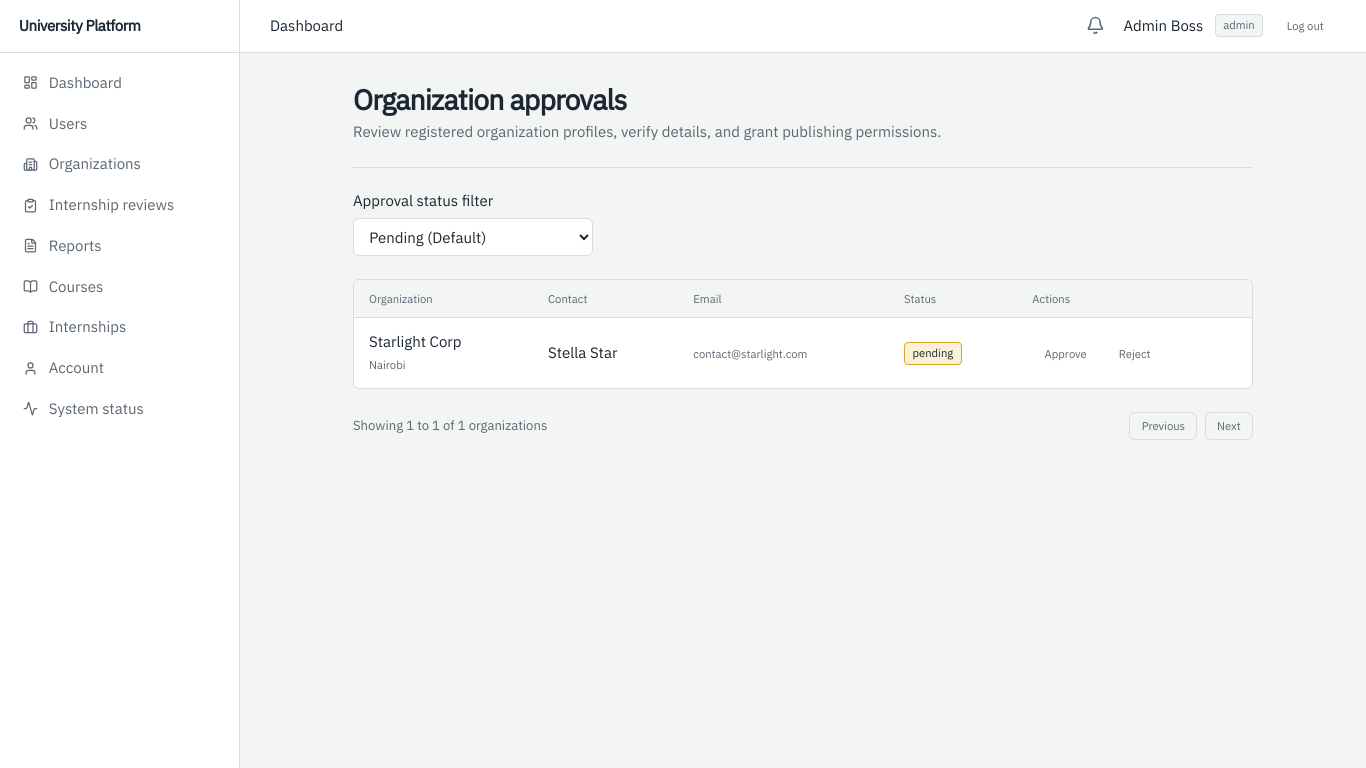
Test: AdminOrganizationsPage Component › opens approval modal and submits approval with note
The width and height of the screenshot is (1366, 768).
Click the button "Approve": (1066, 353) [1032,339,1099,367]
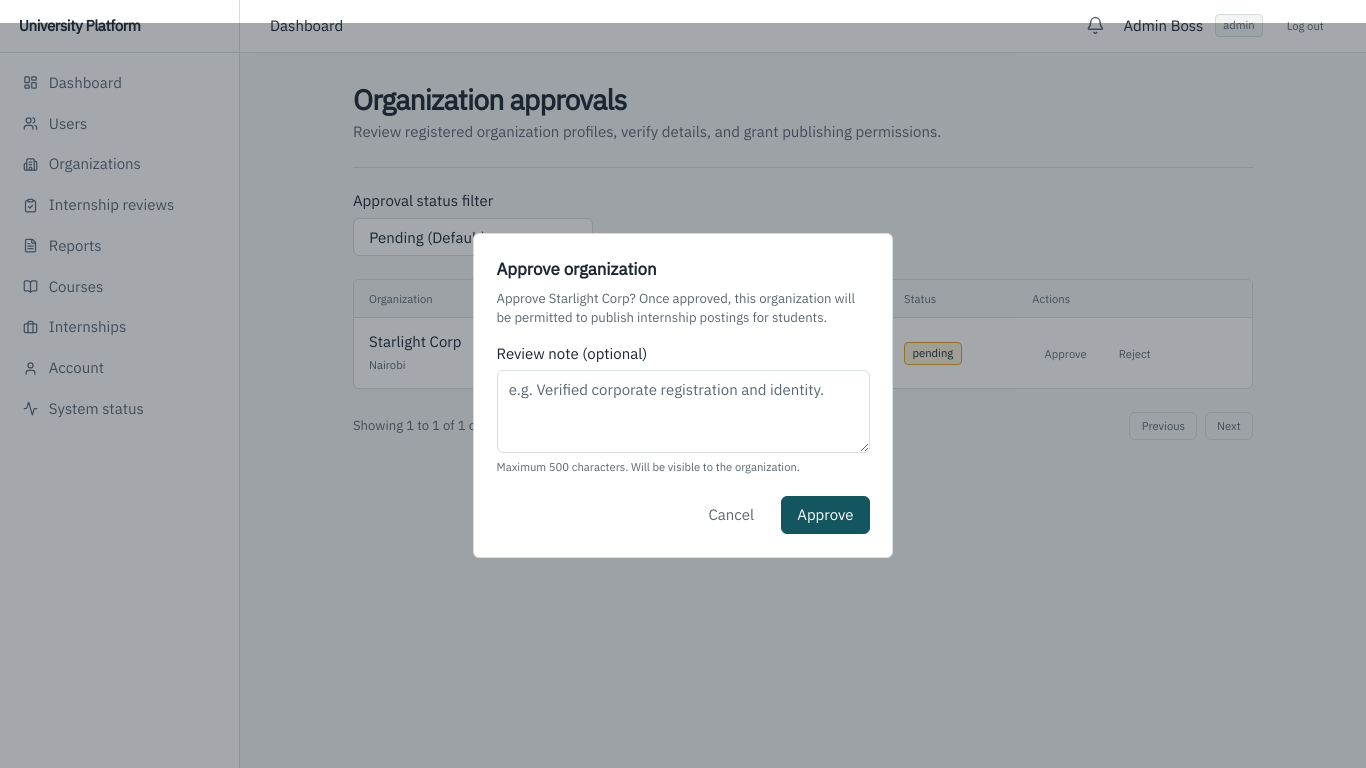
Result: the dialog is shown
Result: the text "Approve Starlight Corp?" is shown at [496,290,855,326]
In the text box labelled "Review note (optional)": (683, 412) [496,370,870,453], type "Verified legitimate business."
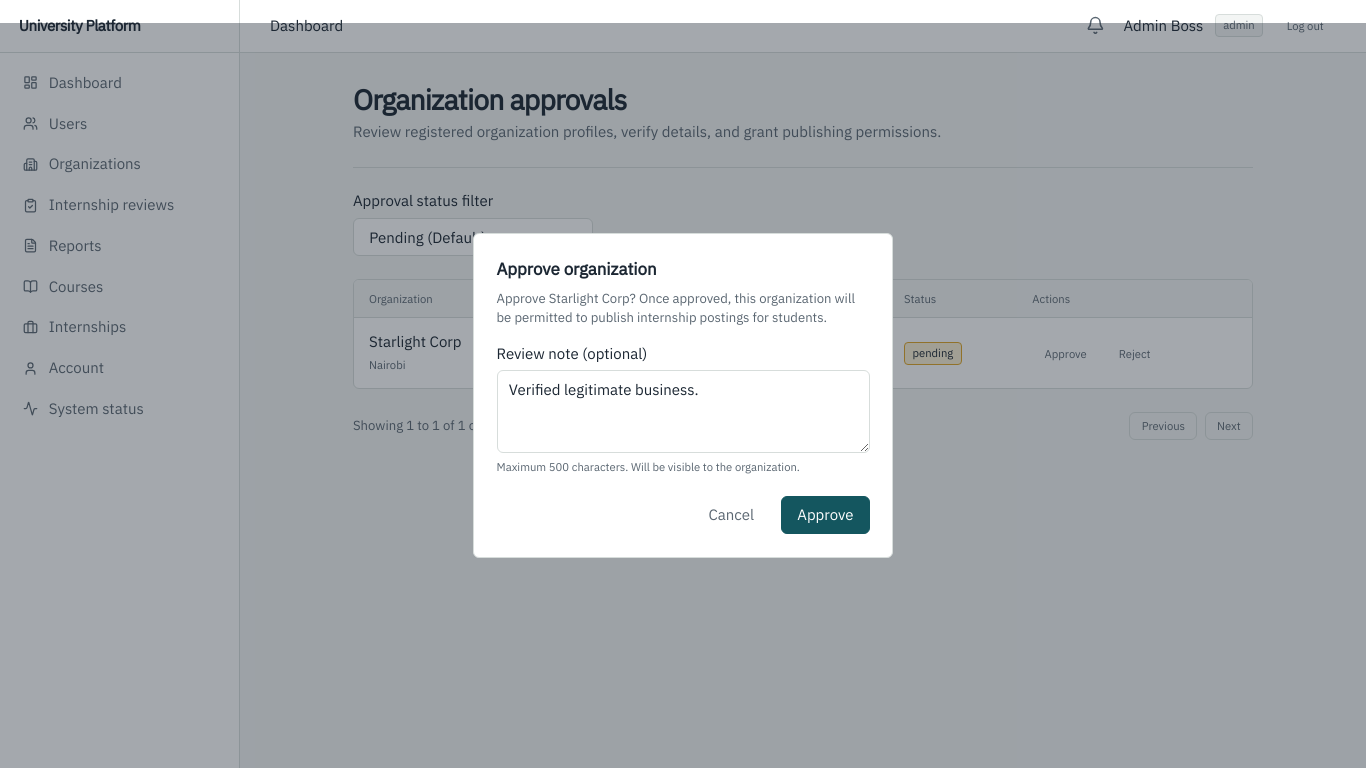
Click the button "Approve": (825, 515) [781,496,870,534]
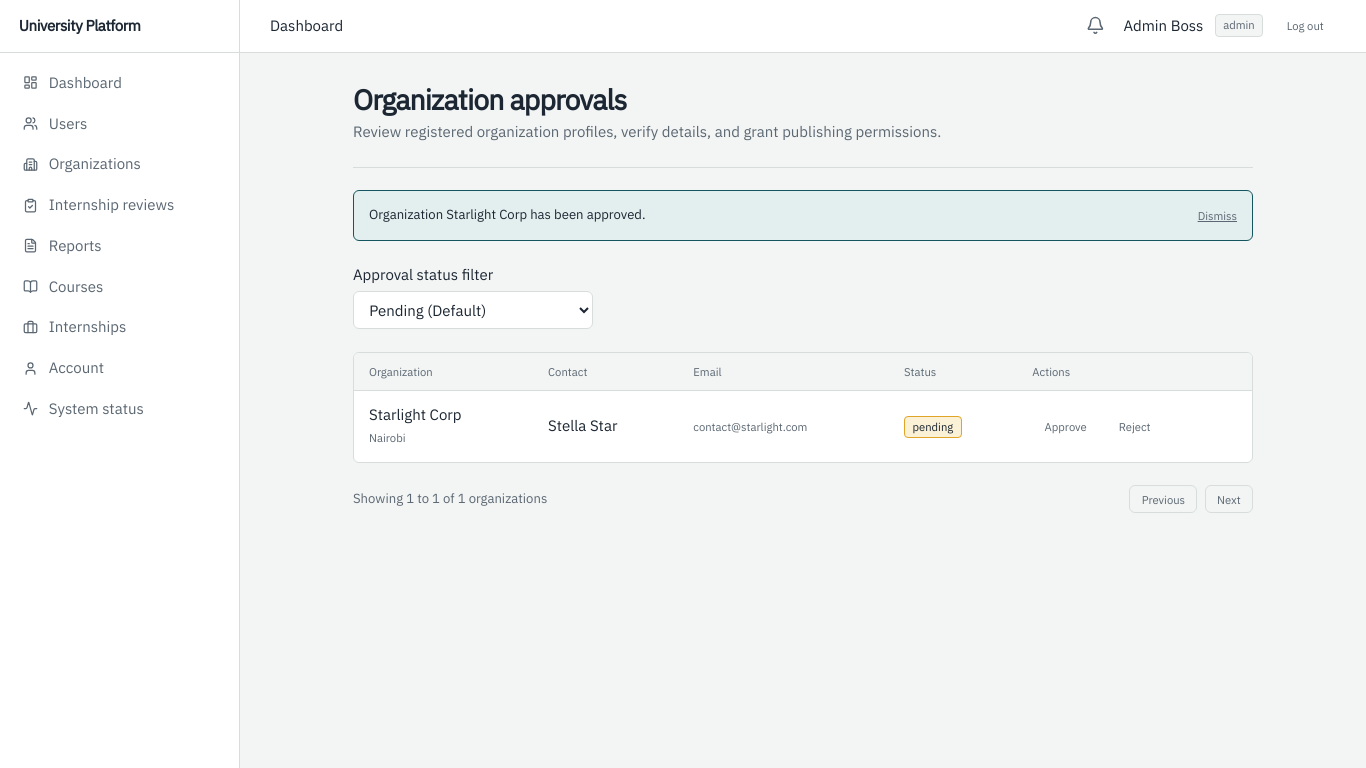
Result: the text "Organization Starlight Corp has been approved." is shown at [369,206,646,225]
